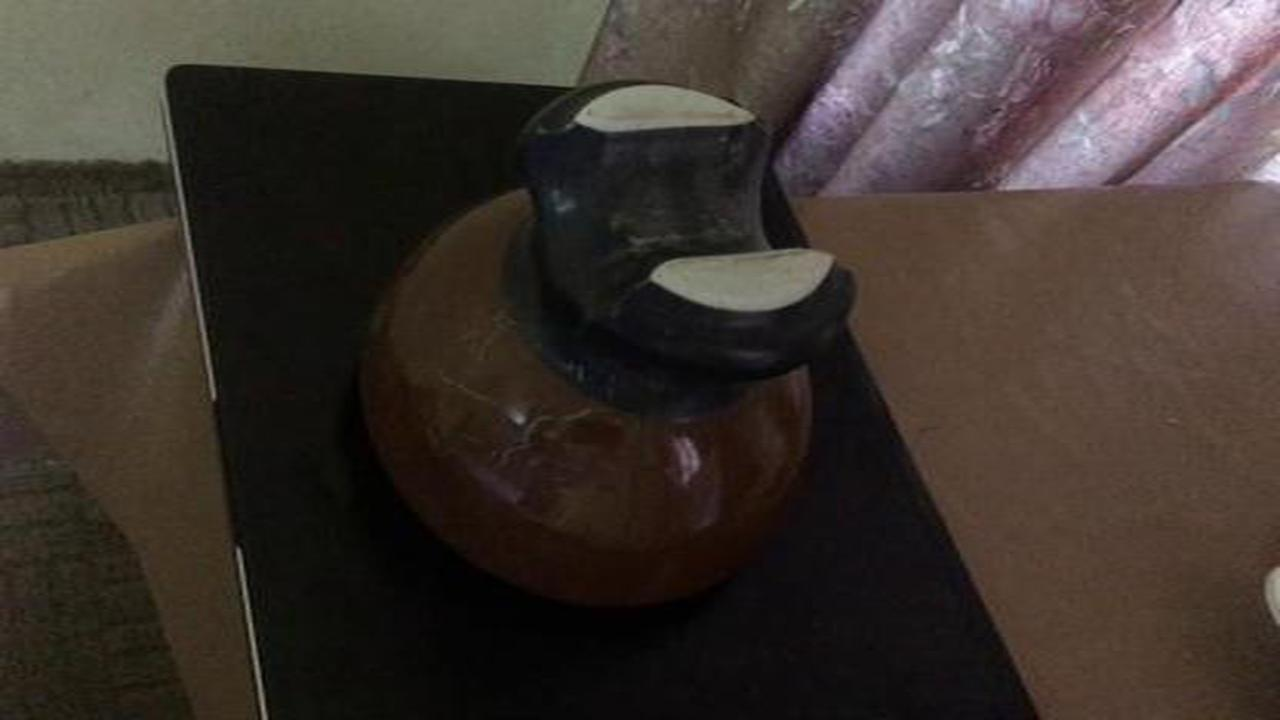insulator_pin: (342, 65, 893, 636)
